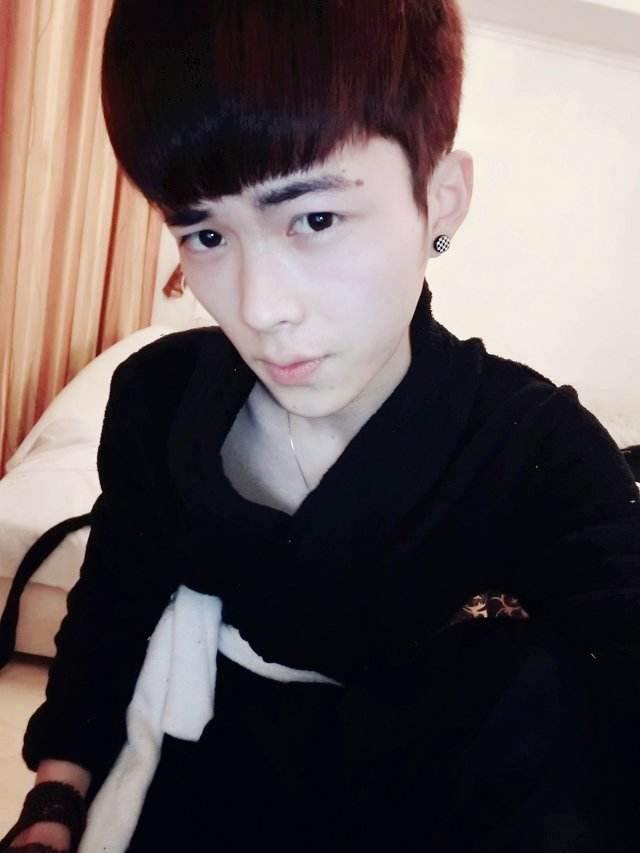person: (36, 23, 585, 764)
